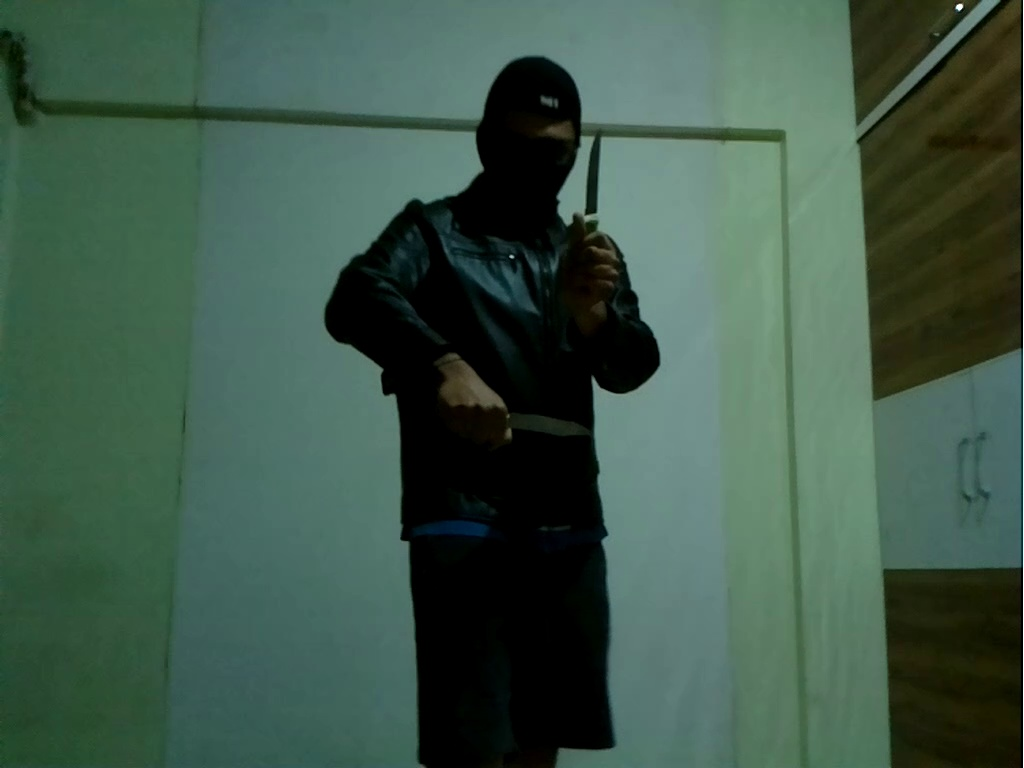knife: (470, 404, 598, 440), (587, 130, 608, 244)
